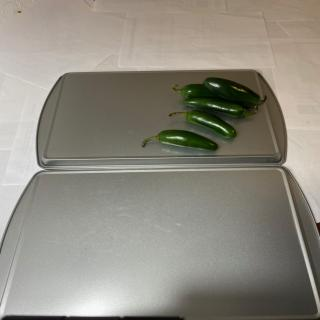Chilli: (168, 110, 237, 139)
Tomato: (202, 77, 266, 108), (142, 130, 218, 152), (183, 97, 258, 118), (172, 84, 222, 99)
